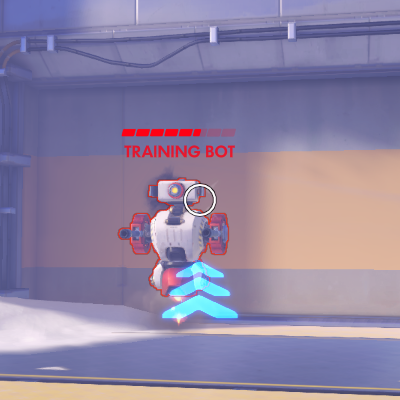hpbar: (121, 128, 236, 137)
